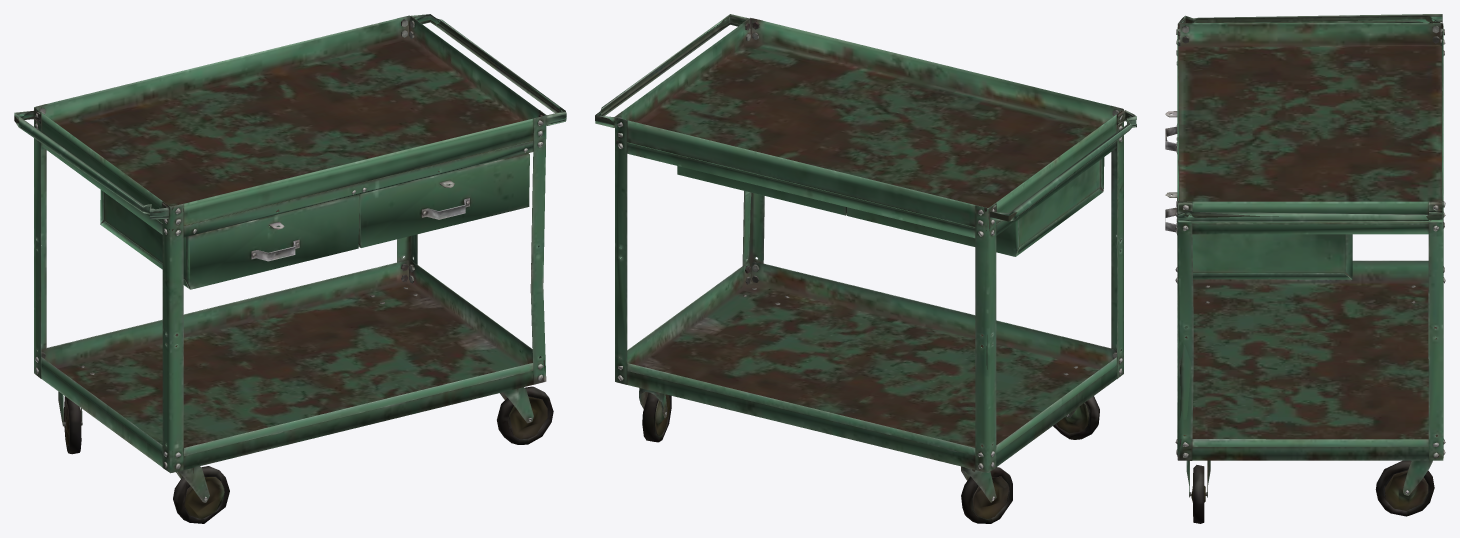
Rendered from tool_cart.glb.
The picture shows the model from 3 angles, left to right: view 1: azimuth 30°, elevation 25°; view 2: azimuth 150°, elevation 25°; view 3: azimuth 270°, elevation 25°; orthographic projection. The views are drawn at different scales.
Parts seen in each view (by area): view 1: tool_cart; view 2: tool_cart; view 3: tool_cart.
Boxes of the visible parts, box(x1,y1,x2,y2) form: tool_cart: box(14, 14, 566, 523); tool_cart: box(595, 14, 1136, 523); tool_cart: box(1165, 14, 1445, 523).
Size of the model in its own units: 1.27 by 0.9647 by 0.7522.
Materials: 1 (1 with a texture image).
